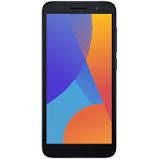Smartphone: (45, 1, 116, 157)
